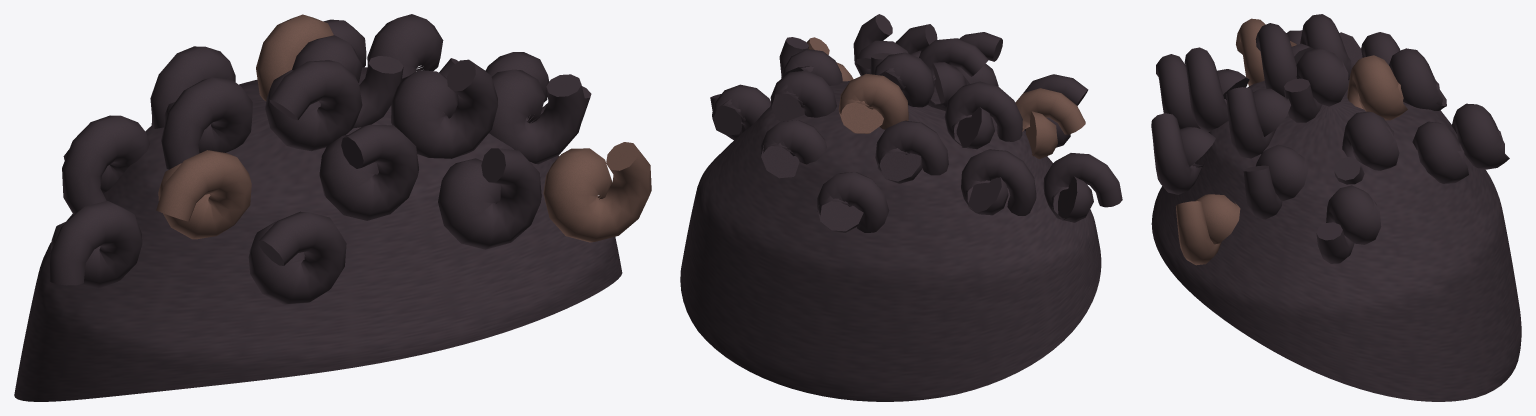
Rendered from hair_short_curls_default.gltf.
The picture shows the model from 3 angles, left to right: view 1: azimuth 30°, elevation 25°; view 2: azimuth 150°, elevation 25°; view 3: azimuth 270°, elevation 25°; orthographic projection. The views are drawn at different scales.
Visible parts, largest first — view 1: Short Curls default; view 2: Short Curls default; view 3: Short Curls default.
Part boxes in pixels (x1,y1,x2,y2): Short Curls default: (14,14,651,401); Short Curls default: (680,14,1122,401); Short Curls default: (1151,14,1521,401).
Bounding box in the file's own units: 0.4839 × 0.3226 × 0.3596.
Materials: 2 (2 with a texture image).
